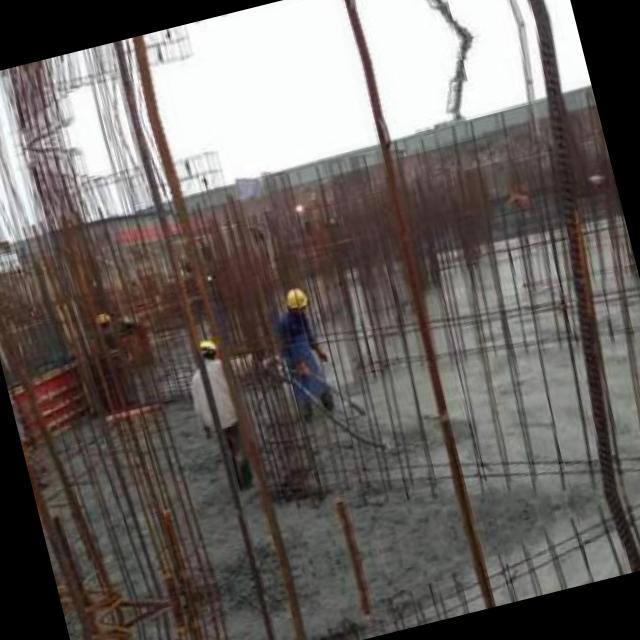helmet: (280, 280, 314, 318), (189, 330, 222, 360), (87, 306, 112, 333)
